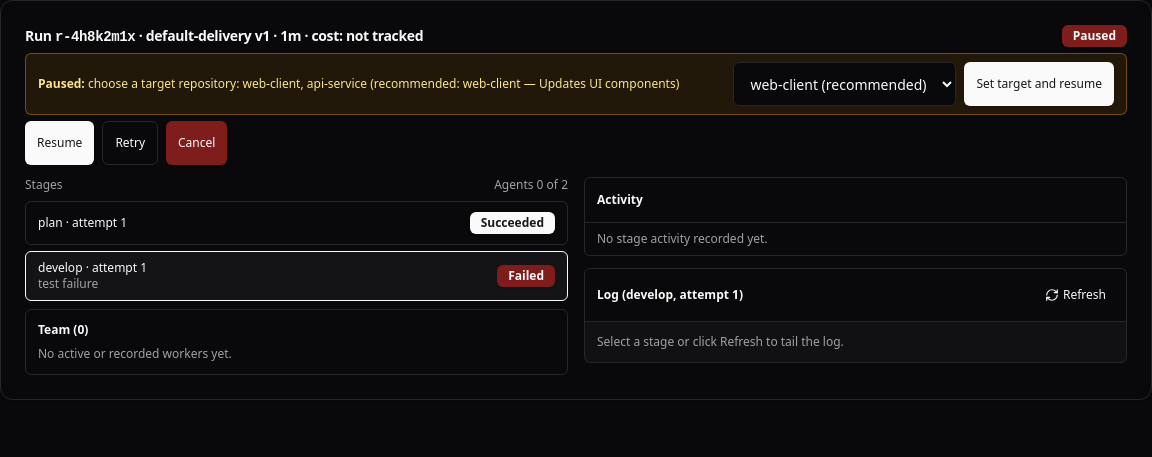
it: RunMonitor › renders target picker with pre-selected recommendation when paused on ambiguous target
The image size is (1152, 457).
Expected: the dropdown named "target repository" shows "web-client (recommended)", [733, 62, 956, 106]
Click the button "Set target and resume". click: (1039, 84)
box: [964, 62, 1114, 106]
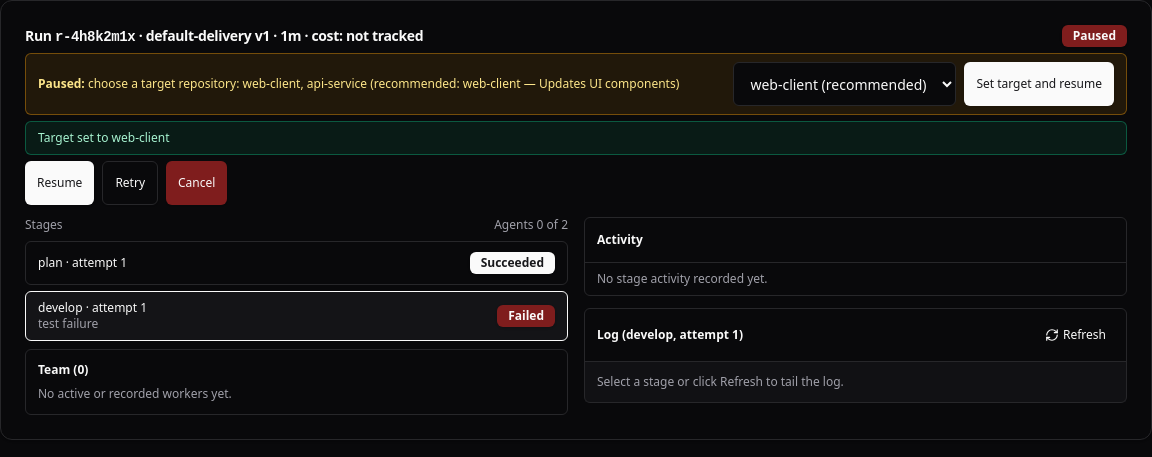
Now the message "Target set to web-client" is shown, box [25, 121, 1127, 155]
